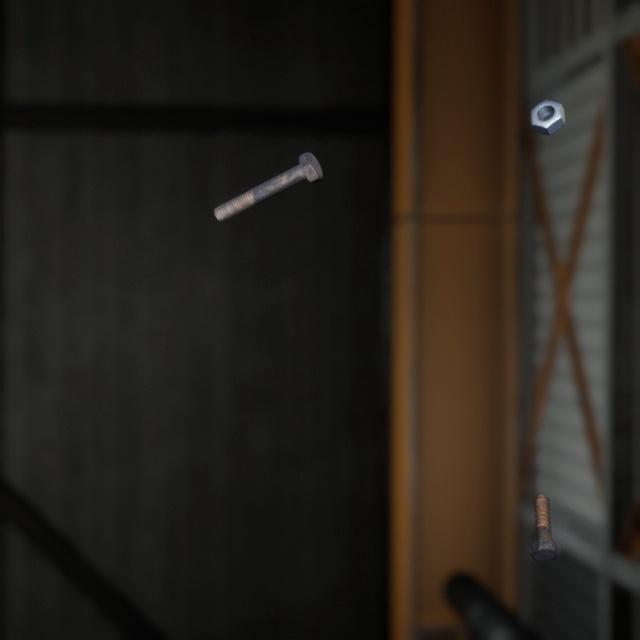bolt: (209, 132, 327, 211), (524, 468, 564, 544)
nut: (526, 83, 569, 127)
